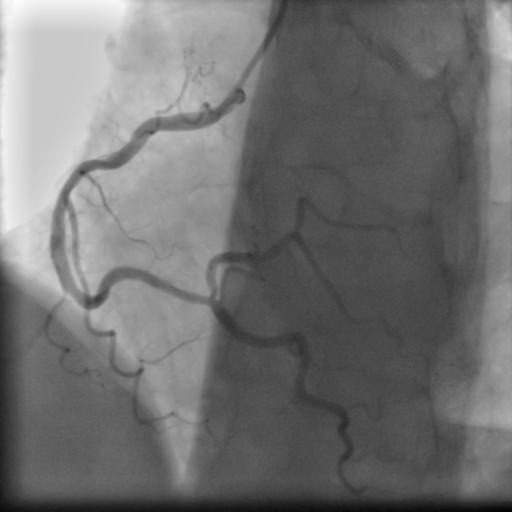Stenosis: (160, 274, 212, 315)
